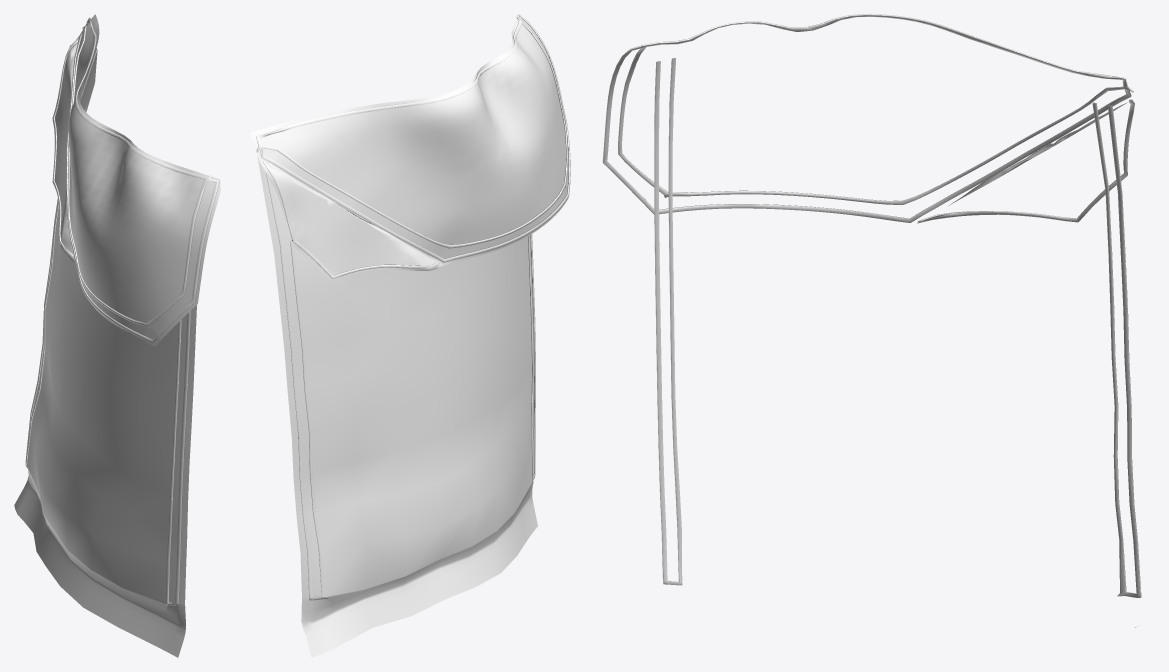
Rendered from Pants_Pocket_Left_V2.glb.
3 renders of one model, left to right at view 1: azimuth 30°, elevation 25°; view 2: azimuth 150°, elevation 25°; view 3: azimuth 270°, elevation 25°, orthographic. The views are drawn at different scales.
Parts seen in each view (by area): view 1: Pants_Main6_2.001, Pants_Main5.001; view 2: Pants_Main6_2.001, Pants_Main5.001; view 3: Pants_Main5.001.
Part boxes in pixels (x1,y1,x2,y2): Pants_Main6_2.001: (14,14,220,657); Pants_Main5.001: (25,17,219,605); Pants_Main6_2.001: (249,14,568,657); Pants_Main5.001: (256,14,570,600); Pants_Main5.001: (602,14,1141,597).
Bounding box in the file's own units: 0.0783 × 0.2707 × 0.2152.
Materials: 2 (2 with a texture image).
